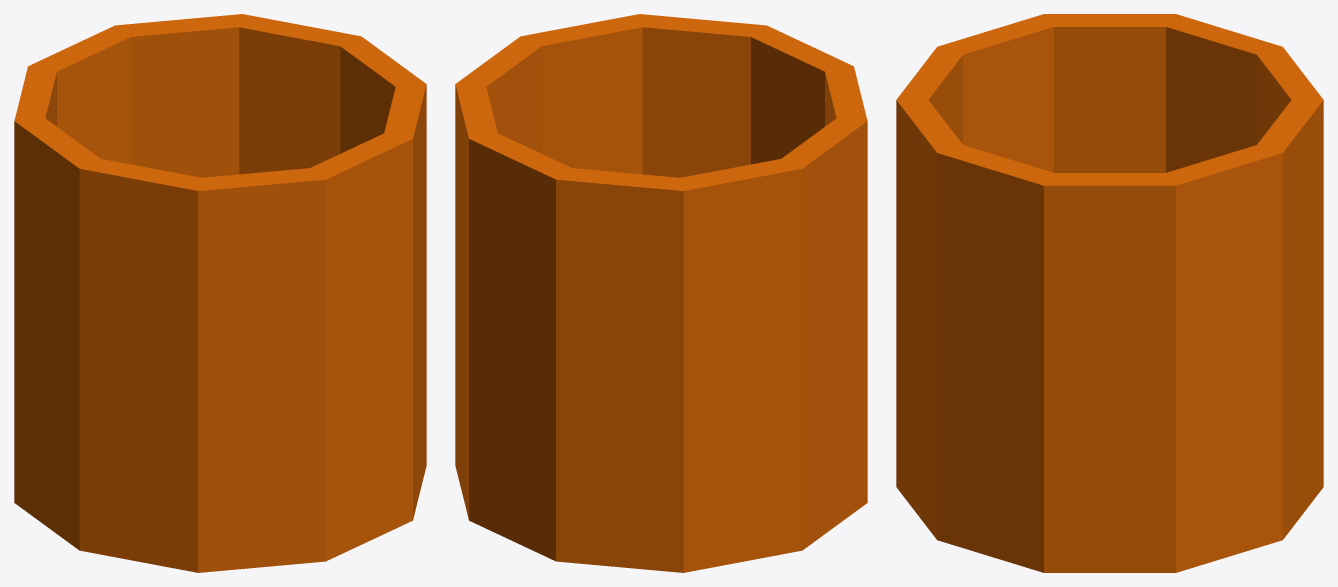
File: m_anillo.fbx
3 views of the same model, side by side, from view 1: azimuth 30°, elevation 25°; view 2: azimuth 150°, elevation 25°; view 3: azimuth 270°, elevation 25° (orthographic).
Visible parts, largest first — view 1: Cylinder.001; view 2: Cylinder.001; view 3: Cylinder.001.
Boxes of the visible parts, x1,y1,x2,y2 form: Cylinder.001: [14, 14, 426, 572]; Cylinder.001: [455, 14, 867, 572]; Cylinder.001: [896, 14, 1323, 572].
Bounding box in the file's own units: 190 × 200 × 200.
